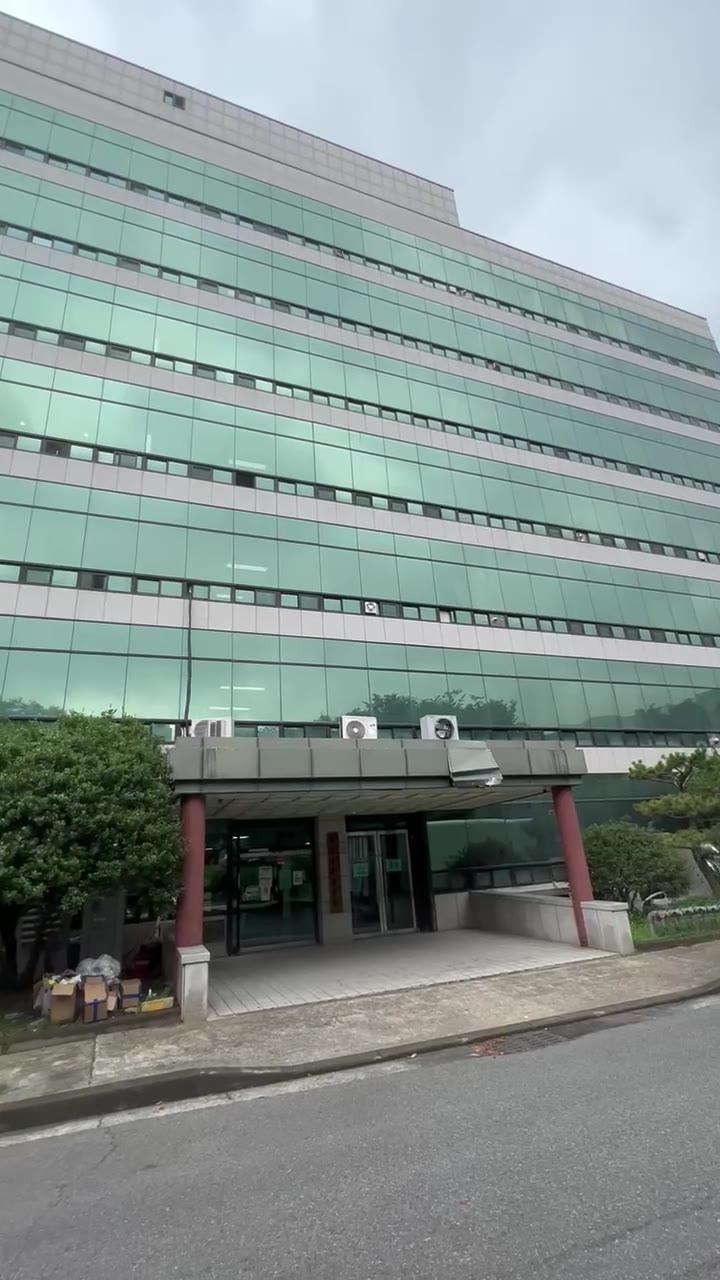building: (32, 92, 524, 722)
